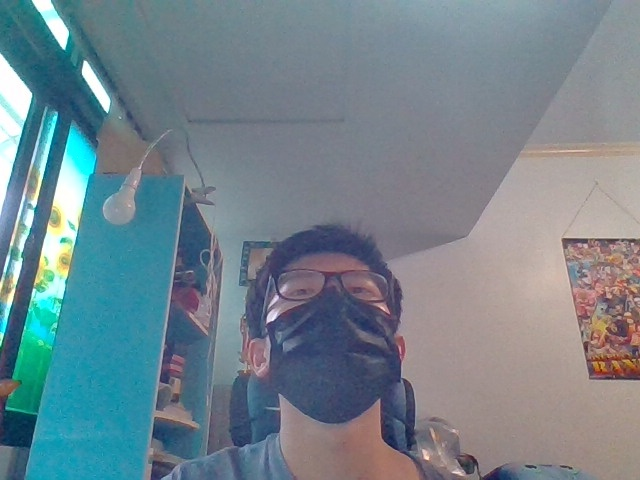Mask: (249, 290, 406, 426)
